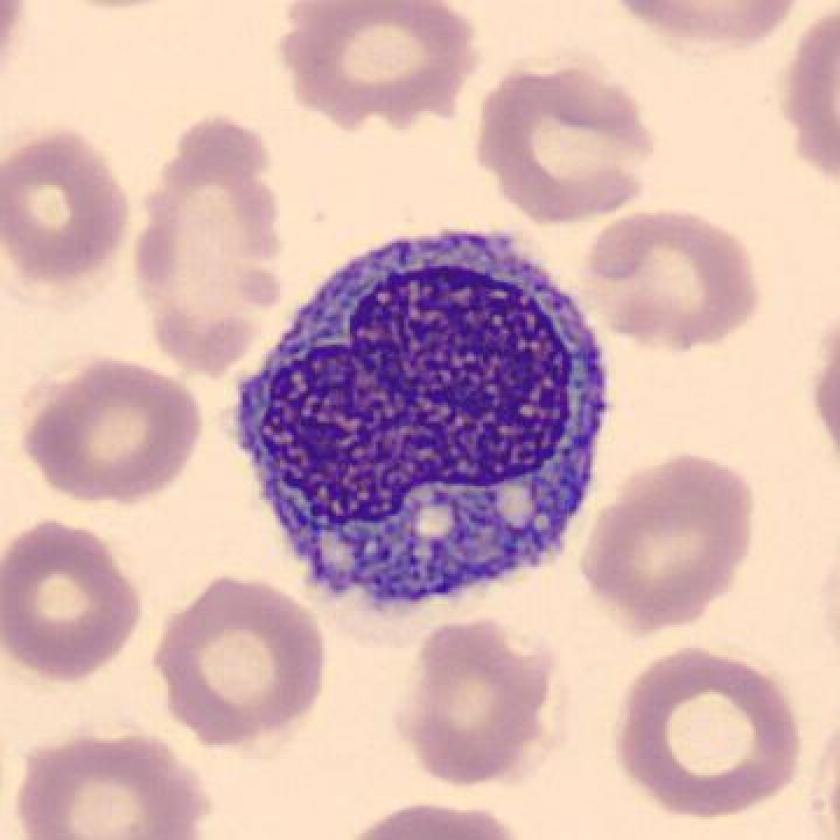monocyte: (218, 207, 636, 630)
